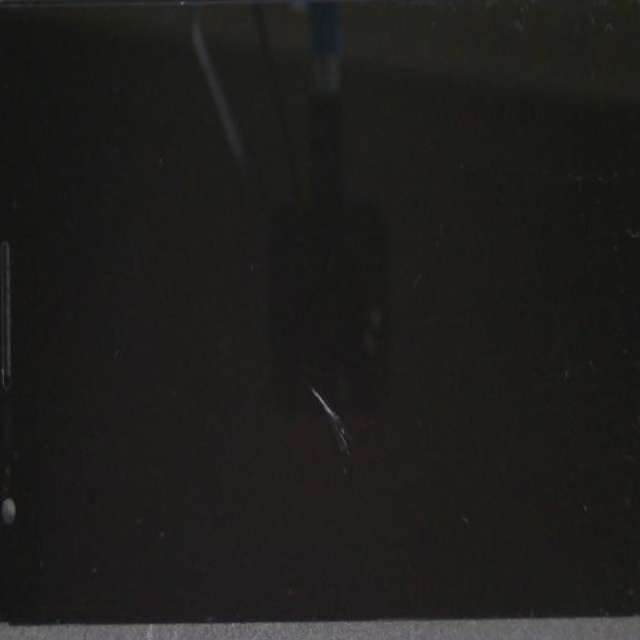scratch: (186, 150, 530, 602)
